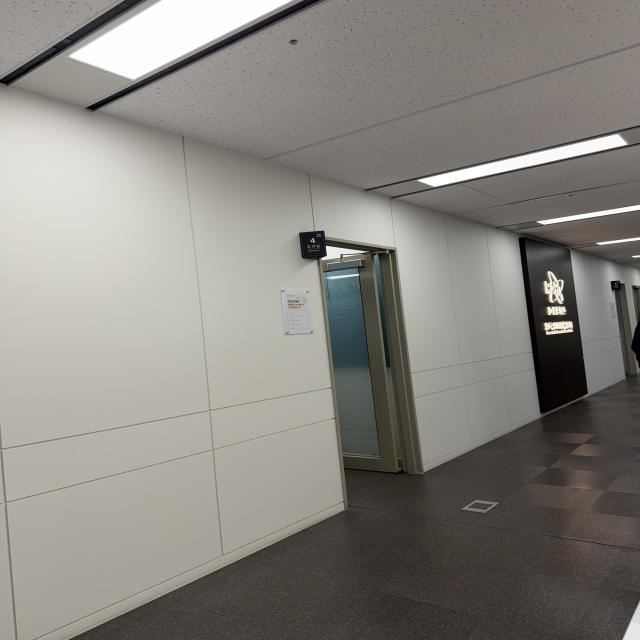room4: (300, 232, 328, 258)
